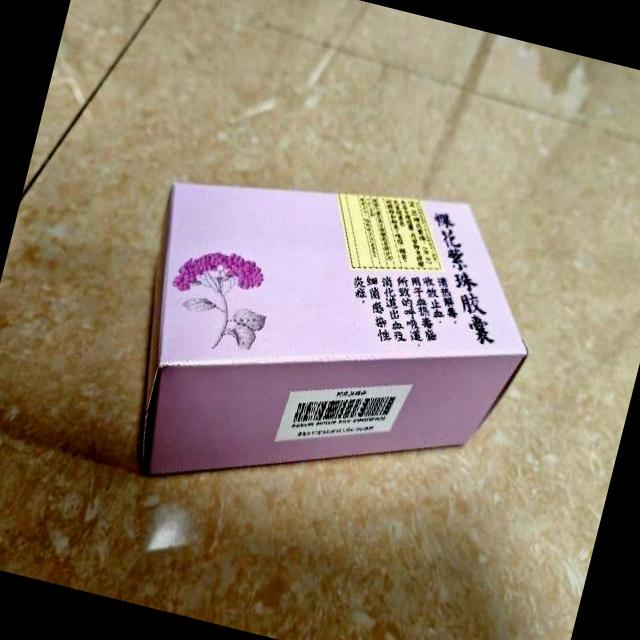box: (100, 132, 560, 559)
